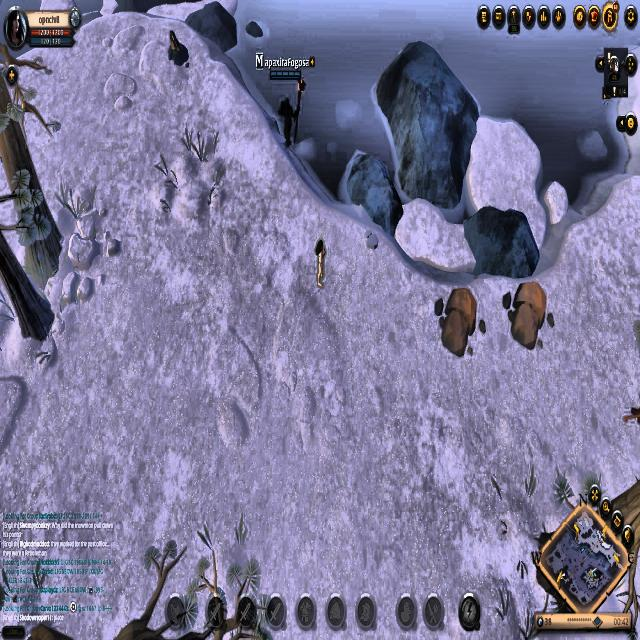copper_ore: (162, 31, 192, 69)
limestone: (431, 283, 486, 360), (502, 276, 550, 352)
